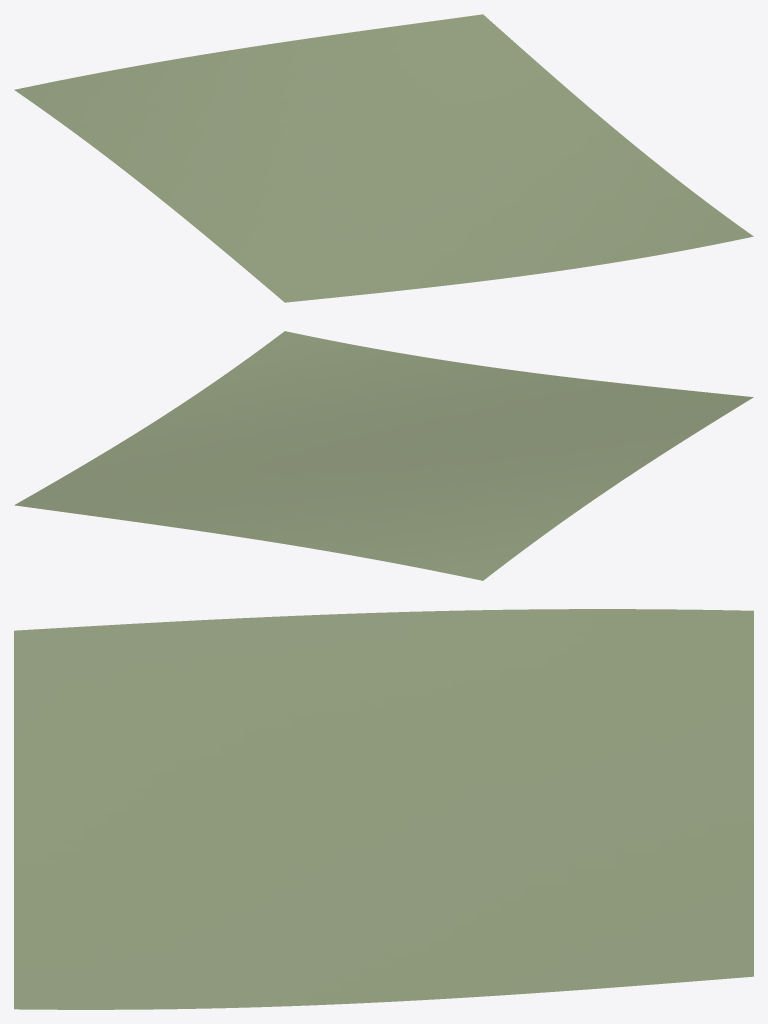
Rendered from alpine-0-4.glb.
The picture shows the model from 3 angles, top to bottom: view 1: azimuth 30°, elevation 25°; view 2: azimuth 150°, elevation 25°; view 3: azimuth 270°, elevation 25°; orthographic projection. The views are drawn at different scales.
Visible parts, largest first — view 1: alpine-0-4; view 2: alpine-0-4; view 3: alpine-0-4.
Boxes of the visible parts, box(x1,y1,x2,y2) form: alpine-0-4: box(14, 14, 753, 302); alpine-0-4: box(14, 331, 753, 580); alpine-0-4: box(14, 609, 753, 1009).
Size of the model in its own units: 256 by 33.62 by 256.
